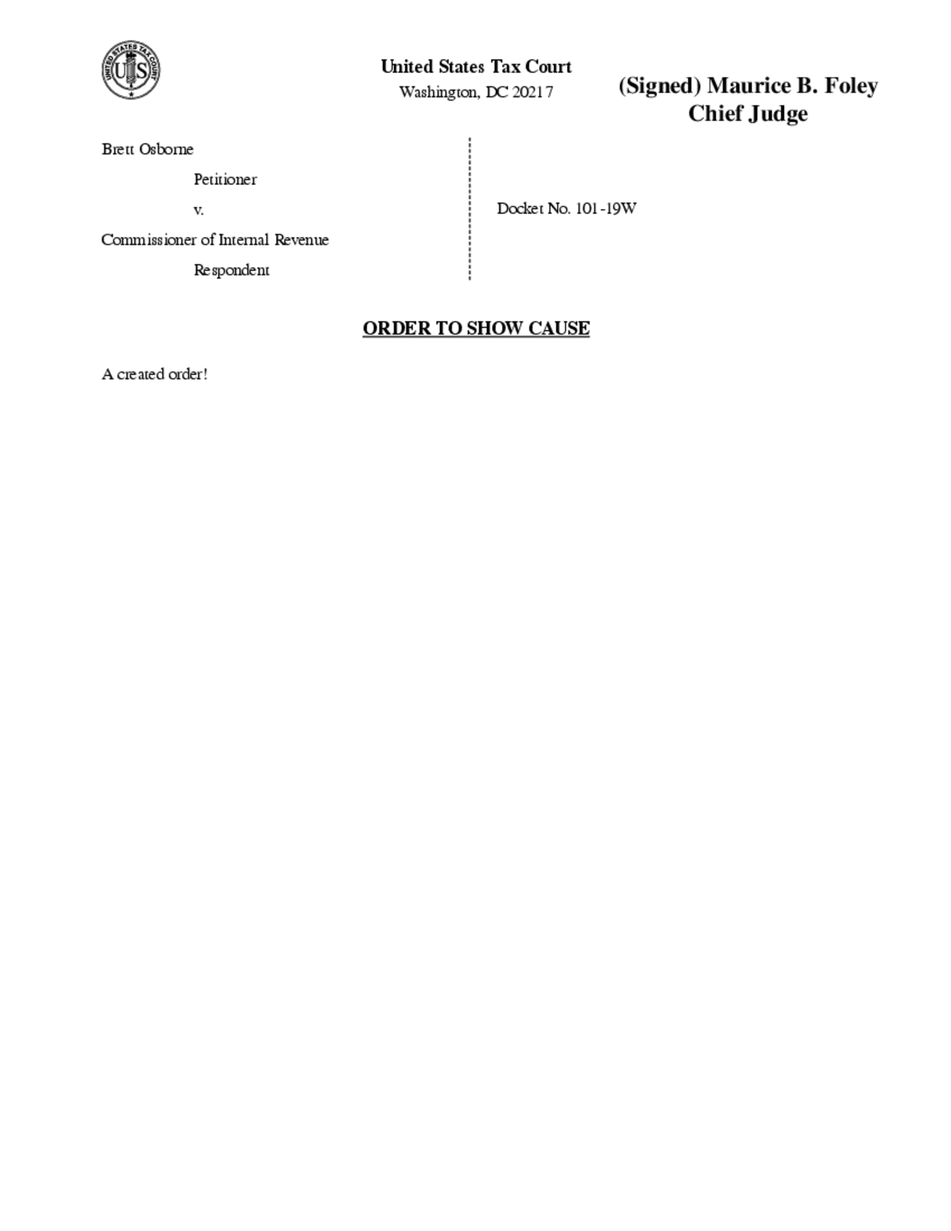signature: (619, 76, 879, 127)
